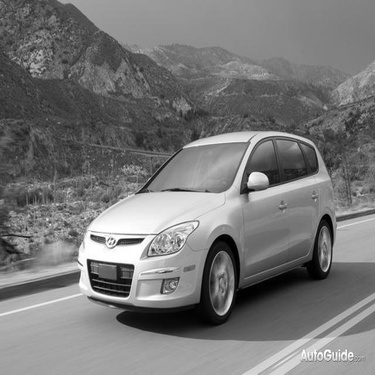car: (72, 116, 346, 326)
